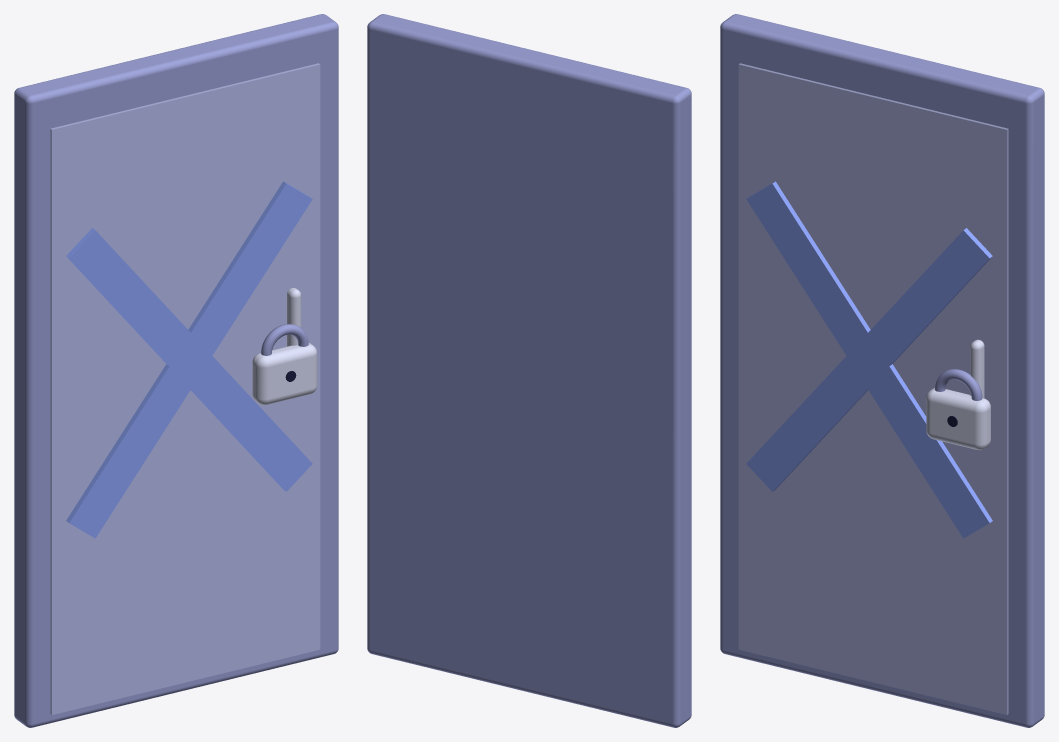
File: sealedDoor.glb
3 renders of one model, left to right at view 1: azimuth 30°, elevation 25°; view 2: azimuth 150°, elevation 25°; view 3: azimuth 330°, elevation 25°, orthographic.
Parts seen in each view (by area): view 1: frame, panel, tape (×2), lockBody, shackle, handle; view 2: frame; view 3: frame, panel, tape (×2), lockBody, shackle, handle.
Part boxes in pixels (<box>): frame: <box>14,14,338,727</box>; panel: <box>50,63,320,714</box>; tape (×2): <box>66,181,312,538</box>; lockBody: <box>252,343,317,405</box>; shackle: <box>261,324,308,355</box>; handle: <box>287,288,301,346</box>; frame: <box>367,14,691,727</box>; frame: <box>720,14,1044,727</box>; panel: <box>738,63,1008,714</box>; tape (×2): <box>746,181,992,538</box>; lockBody: <box>926,388,990,450</box>; shackle: <box>934,369,982,400</box>; handle: <box>970,339,984,398</box>.
Bounding box in the file's own units: 1.12 × 2.16 × 0.189.
